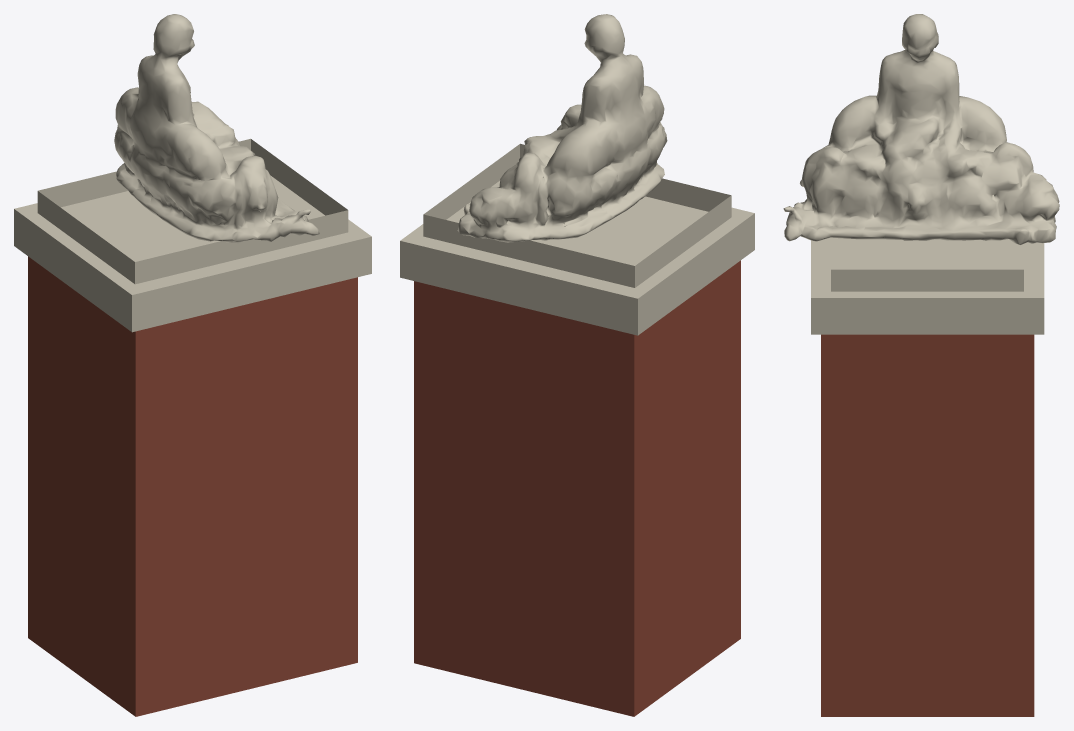
The model's file is kinderbrug-jongen-konijnen.glb.
3 views of the same model, side by side, from view 1: azimuth 30°, elevation 25°; view 2: azimuth 150°, elevation 25°; view 3: azimuth 270°, elevation 25° (orthographic).
Parts seen in each view (by area): view 1: kinderbrug-jongen-konijnen; view 2: kinderbrug-jongen-konijnen; view 3: kinderbrug-jongen-konijnen.
Boxes of the visible parts, <box> form: kinderbrug-jongen-konijnen: <box>14,14,371,716</box>; kinderbrug-jongen-konijnen: <box>400,14,754,716</box>; kinderbrug-jongen-konijnen: <box>783,14,1059,716</box>.
Bounding box in the file's own units: 1.35 × 3.46 × 1.36.
